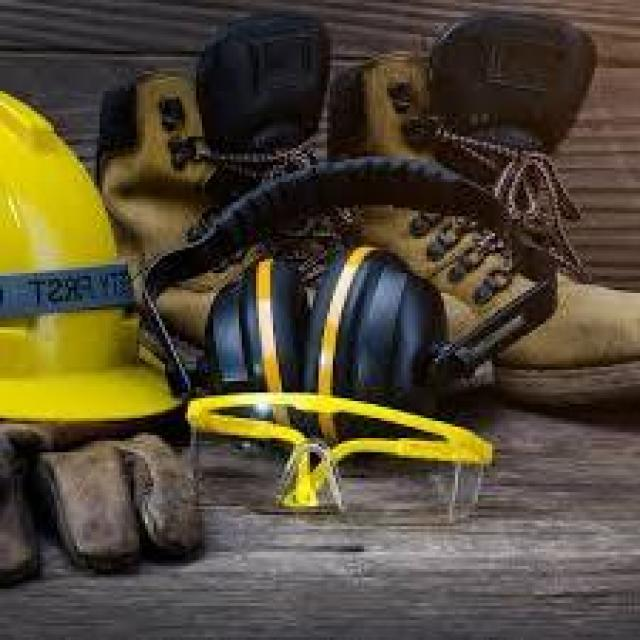Safety-Helmet: (0, 54, 222, 447)
